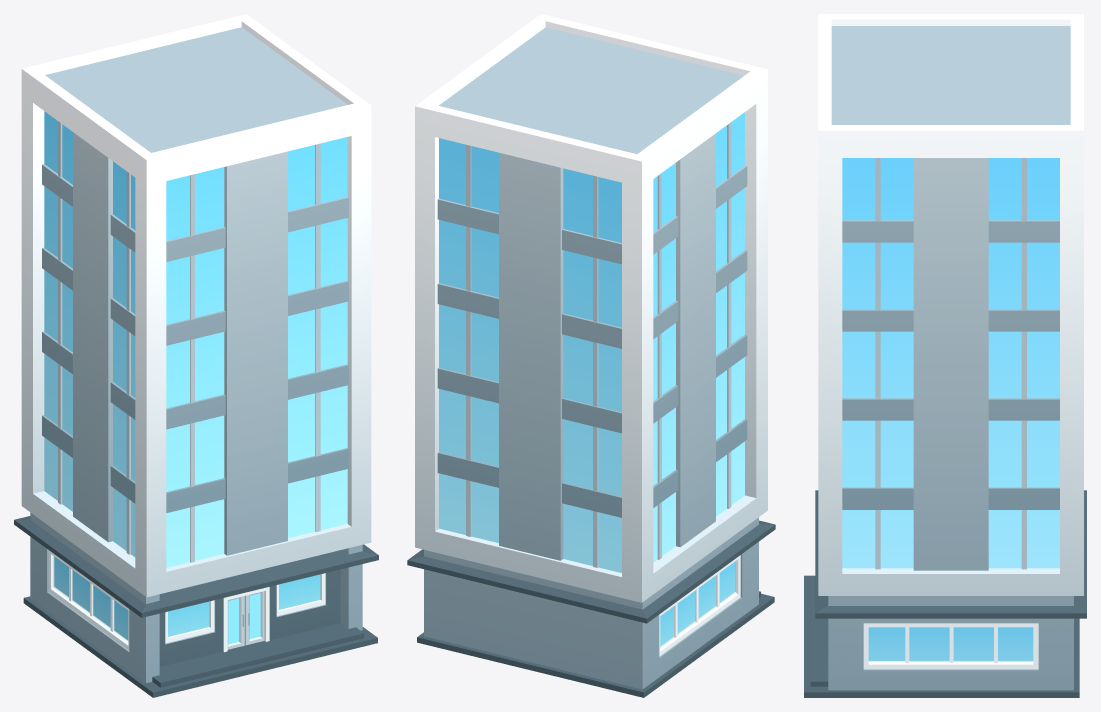
Rendered from city2-building-living-44.glb.
3 renders of one model, left to right at view 1: azimuth 30°, elevation 25°; view 2: azimuth 150°, elevation 25°; view 3: azimuth 270°, elevation 25°, orthographic. The views are drawn at different scales.
Visible parts, largest first — view 1: Building_Living_44; view 2: Building_Living_44; view 3: Building_Living_44.
Boxes of the visible parts, x1=… form: Building_Living_44: x1=14, y1=14, x2=378, y2=697; Building_Living_44: x1=407, y1=14, x2=775, y2=697; Building_Living_44: x1=804, y1=14, x2=1086, y2=697.
Bounding box in the file's own units: 10.41 × 22.34 × 10.09.
2 materials, 2 textured.
